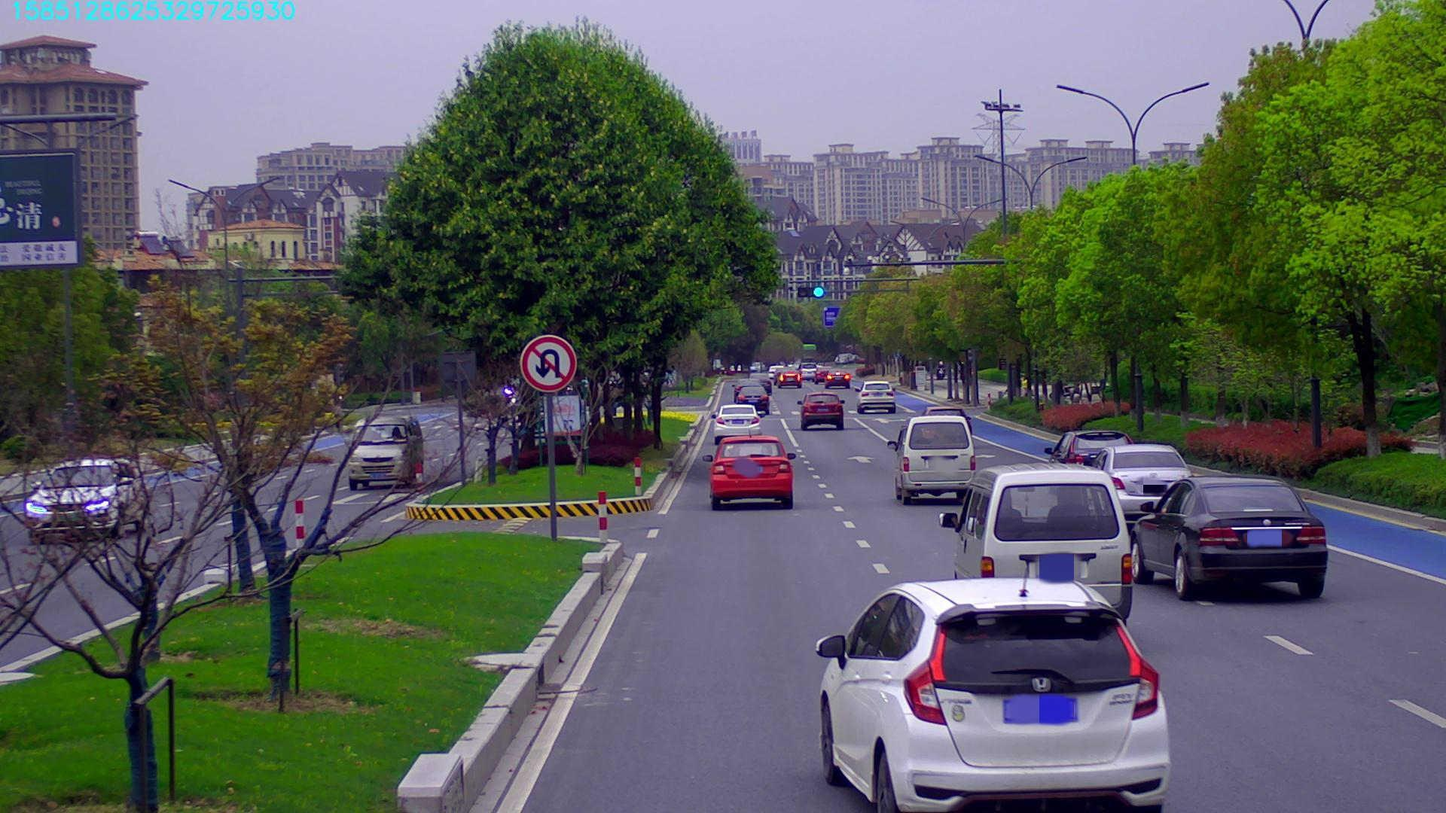green: (797, 282, 822, 299)
